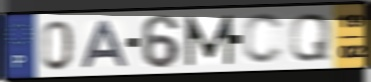0: (41, 19, 76, 72)
6: (140, 13, 183, 71)
A: (79, 19, 131, 70)
C: (241, 12, 286, 67)
M: (184, 13, 236, 68)
Q: (288, 12, 334, 64)
